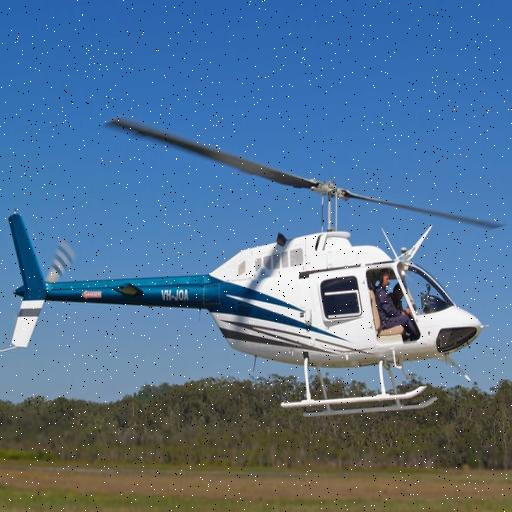helicopter: (1, 111, 505, 428)
